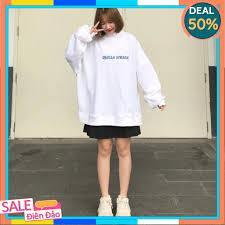sweater: (65, 23, 166, 125)
